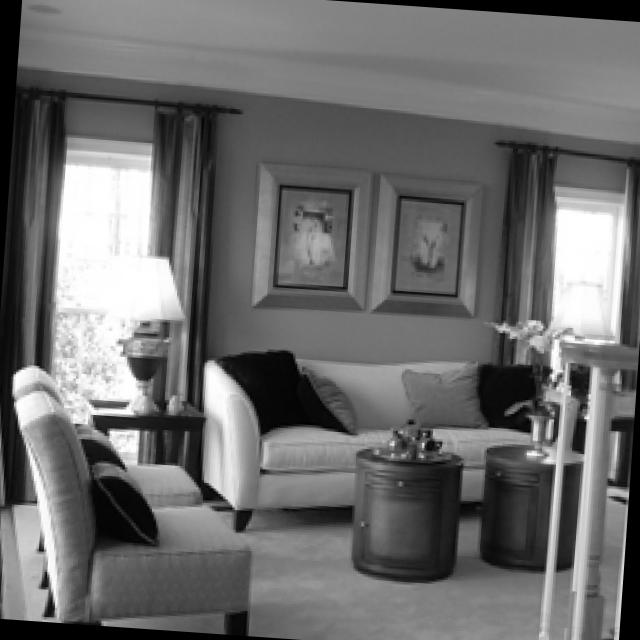2001: (48, 134, 147, 397), (545, 186, 622, 336)
armchair crop: (9, 388, 246, 628), (10, 365, 198, 502)
ceiling beam: (17, 0, 640, 139)
curtain crop: (0, 93, 60, 497), (144, 105, 202, 393), (491, 150, 550, 368)
decorations: (364, 417, 446, 454)
lamp crop: (98, 254, 178, 411), (550, 277, 619, 406)
painting crop: (249, 163, 368, 307), (366, 169, 478, 313)
pillow occluded: (214, 348, 345, 431), (399, 361, 483, 426), (474, 359, 547, 430), (87, 472, 153, 539), (75, 423, 122, 467)
plant -x: (481, 311, 578, 453)
small table part: (351, 438, 458, 577), (475, 441, 579, 564), (81, 391, 203, 476), (550, 406, 629, 482)
sofa bed: (199, 347, 533, 525)
